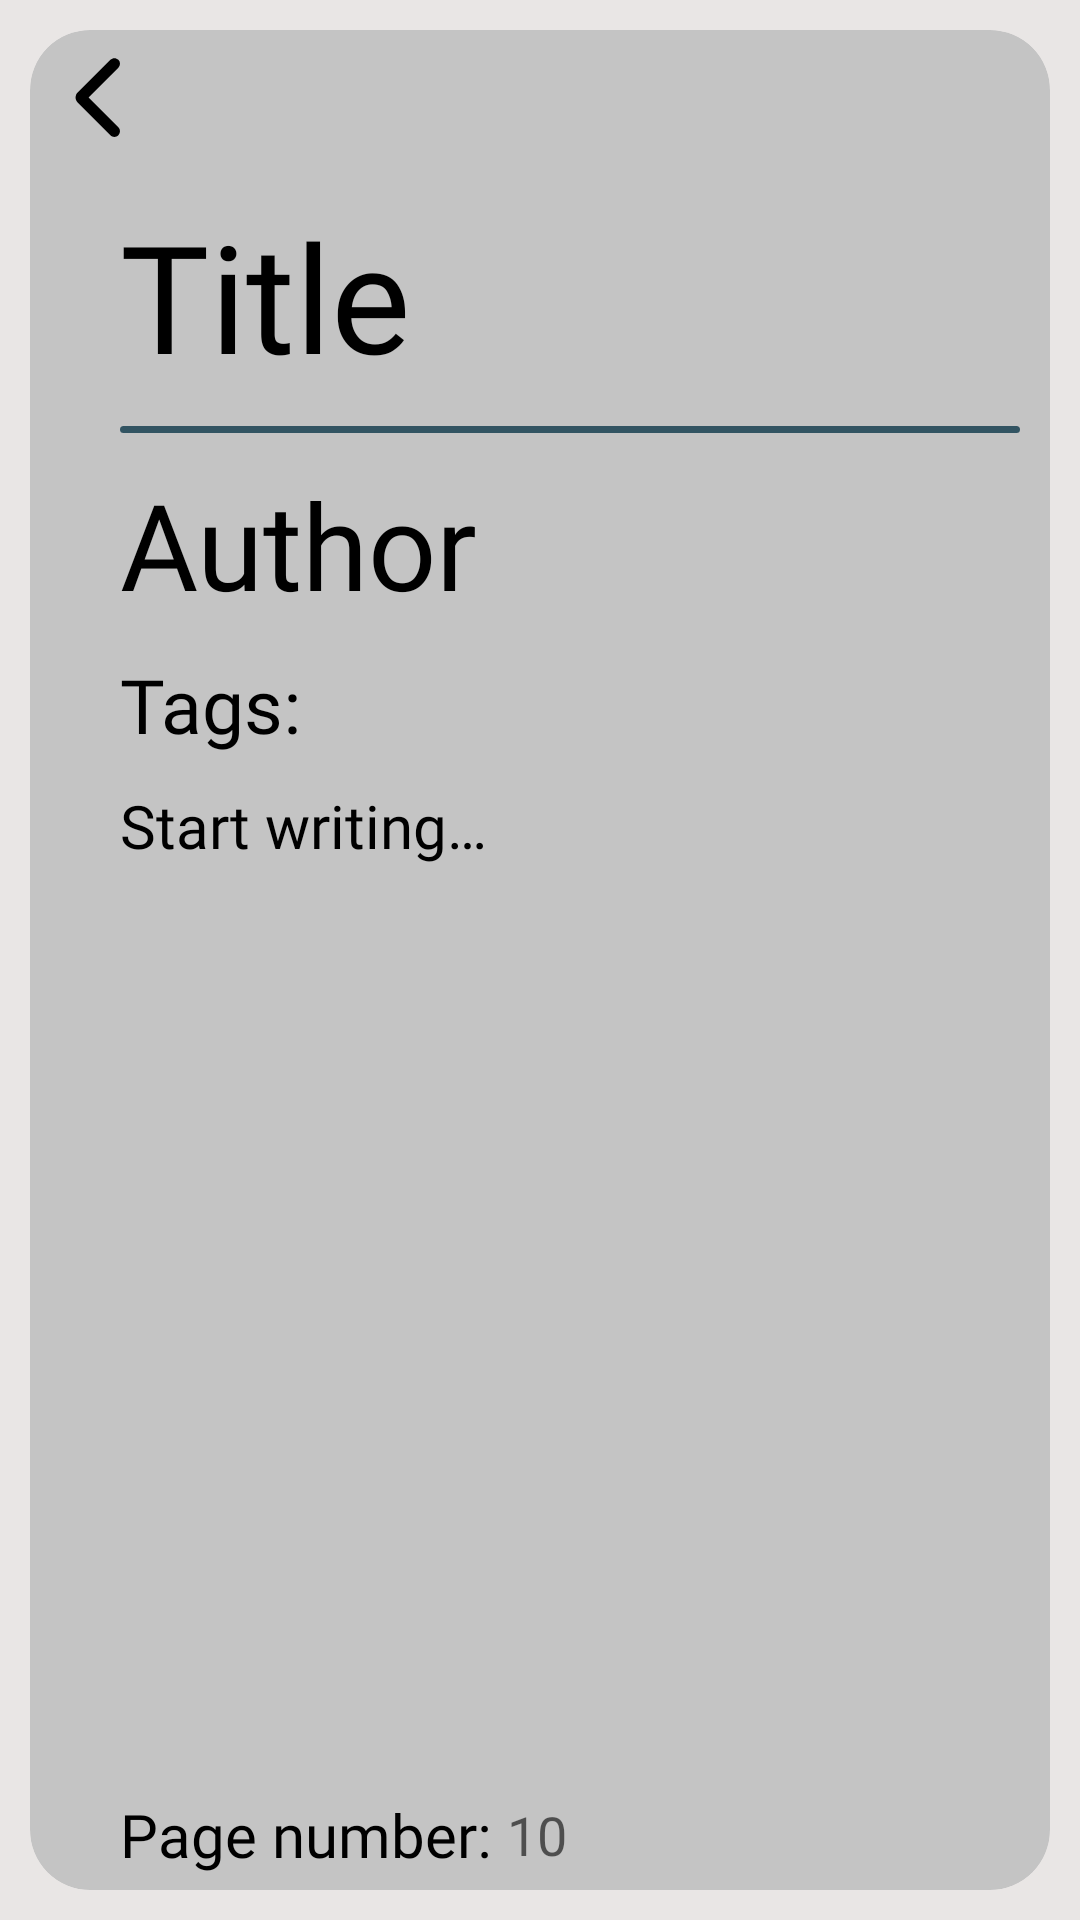

Icon click points for this 1080 x 1920 phone screenshot, format point (x, y):
return: point (97, 97)
